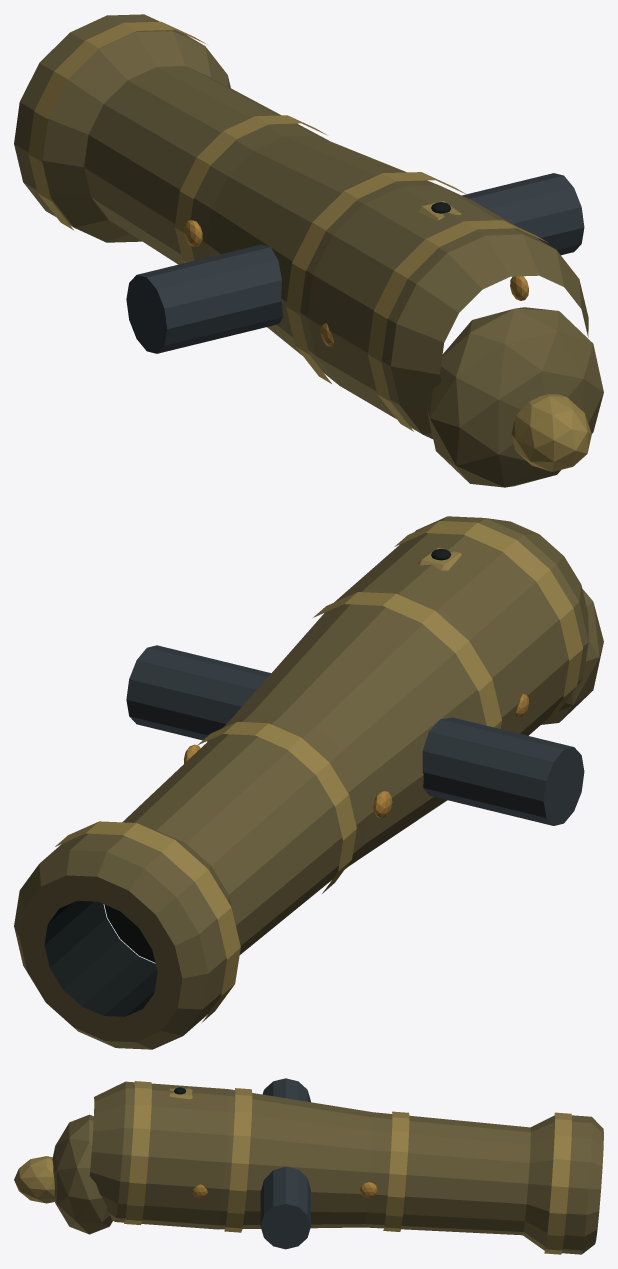
The model's file is Barrel.glb.
The picture shows the model from 3 angles, top to bottom: view 1: azimuth 30°, elevation 25°; view 2: azimuth 150°, elevation 25°; view 3: azimuth 270°, elevation 25°; orthographic projection. The views are drawn at different scales.
Visible parts, largest first — view 1: Sculpture; view 2: Sculpture; view 3: Sculpture.
Boxes of the visible parts, x1,y1,x2,y2 form: Sculpture: [14, 14, 603, 487]; Sculpture: [14, 516, 603, 1049]; Sculpture: [14, 1078, 603, 1254].
Bounding box in the file's own units: 1.18 × 0.704 × 2.34.
